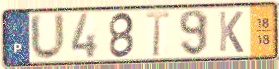4: (69, 12, 101, 61)
8: (107, 11, 136, 60)
9: (178, 8, 211, 58)
K: (217, 10, 245, 55)
T: (144, 10, 172, 59)
U: (28, 11, 68, 63)
